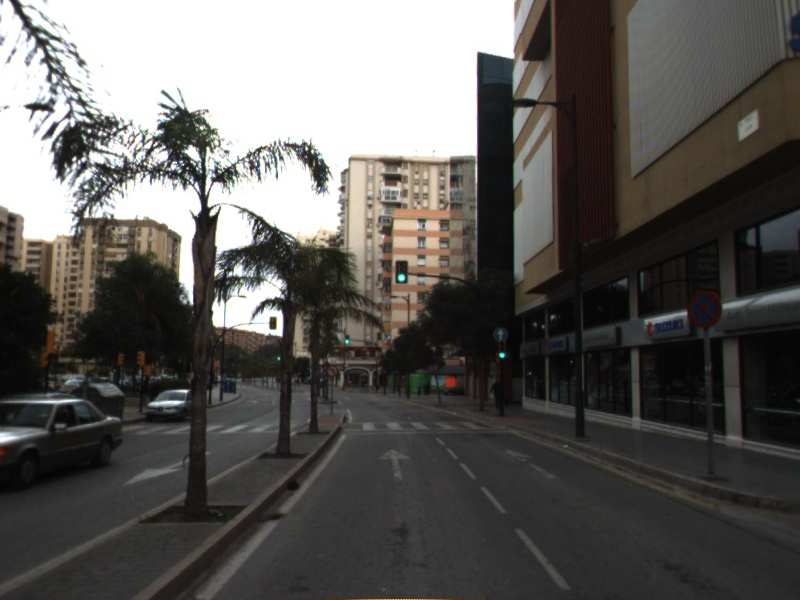STRAIGHT: (502, 446, 560, 481), (375, 446, 413, 483)
